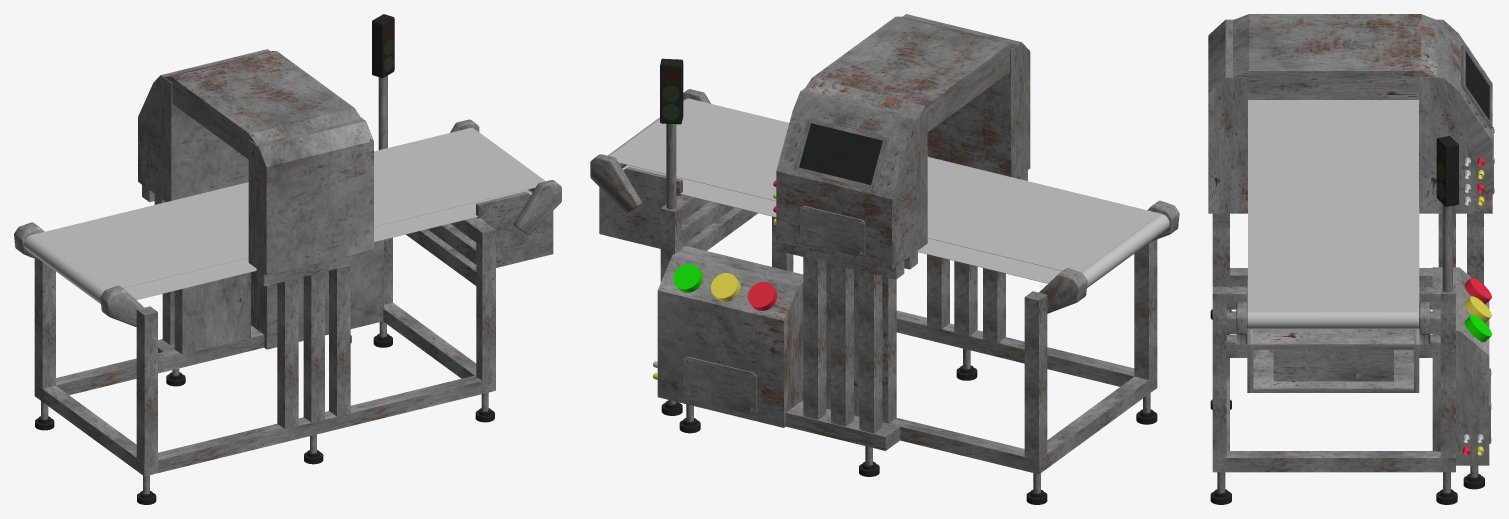
File: Scanner (FBX) 1K.fbx
3 views of the same model, side by side, from view 1: azimuth 30°, elevation 25°; view 2: azimuth 150°, elevation 25°; view 3: azimuth 270°, elevation 25° (orthographic). The views are drawn at different scales.
Parts seen in each view (by area): view 1: ConveerUp, ScannerLeft, ScannerUp, ScannerMonitor, BaseLeft, BaseBig, BaseButtons, ConveerDown, Base9, RotatorMechanismPlaneLeft, BaseRight, Base5 (+15 smaller); view 2: ConveerUp, BaseButtons, ScannerMonitor, ScannerUp, ScannerLeft, BaseLeft, Base10, ConveerDown, Base6, Base8, BaseBig, Base7 (+23 smaller); view 3: ConveerUp, ScannerUp, ScannerMonitor, ScannerLeft, BaseButtons, BaseFront, RotatorMechanismPlaneUp, ConveerFront, RotatorMechanismPlaneDown, Base2, Base1, RotatorMechanism (+18 smaller).
Boxes of the visible parts, bbox=[...] form: ConveerUp: bbox=[32, 128, 541, 289]; ScannerLeft: bbox=[248, 117, 373, 275]; ScannerUp: bbox=[164, 51, 361, 159]; ScannerMonitor: bbox=[138, 49, 270, 201]; BaseLeft: bbox=[158, 375, 482, 472]; BaseBig: bbox=[174, 272, 250, 354]; BaseButtons: bbox=[251, 240, 383, 349]; ConveerDown: bbox=[123, 190, 531, 299]; Base9: bbox=[136, 306, 157, 463]; RotatorMechanismPlaneLeft: bbox=[476, 191, 553, 267]; BaseRight: bbox=[56, 329, 264, 395]; Base5: bbox=[277, 278, 298, 429]; ConveerUp: bbox=[612, 99, 1160, 271]; BaseButtons: bbox=[657, 245, 803, 427]; ScannerMonitor: bbox=[776, 88, 927, 269]; ScannerUp: bbox=[804, 16, 1016, 131]; ScannerLeft: bbox=[903, 14, 1030, 178]; BaseLeft: bbox=[896, 310, 1134, 386]; Base10: bbox=[1024, 291, 1047, 460]; ConveerDown: bbox=[622, 165, 1062, 283]; Base6: bbox=[803, 257, 826, 419]; Base8: bbox=[859, 270, 882, 433]; BaseBig: bbox=[826, 262, 896, 423]; Base7: bbox=[831, 264, 853, 426]; ConveerUp: bbox=[1248, 100, 1419, 310]; ScannerUp: bbox=[1233, 14, 1437, 99]; ScannerMonitor: bbox=[1419, 19, 1492, 213]; ScannerLeft: bbox=[1208, 19, 1247, 213]; BaseButtons: bbox=[1432, 267, 1489, 465]; BaseFront: bbox=[1212, 451, 1455, 472]; RotatorMechanismPlaneUp: bbox=[1253, 329, 1413, 349]; ConveerFront: bbox=[1248, 311, 1418, 329]; RotatorMechanismPlaneDown: bbox=[1253, 350, 1413, 392]; Base2: bbox=[1440, 286, 1455, 457]; Base1: bbox=[1212, 286, 1226, 457]; RotatorMechanism: bbox=[1273, 349, 1393, 381].
Size of the model in its own units: 285 by 196 by 140.
Materials: 10 (3 with a texture image).
